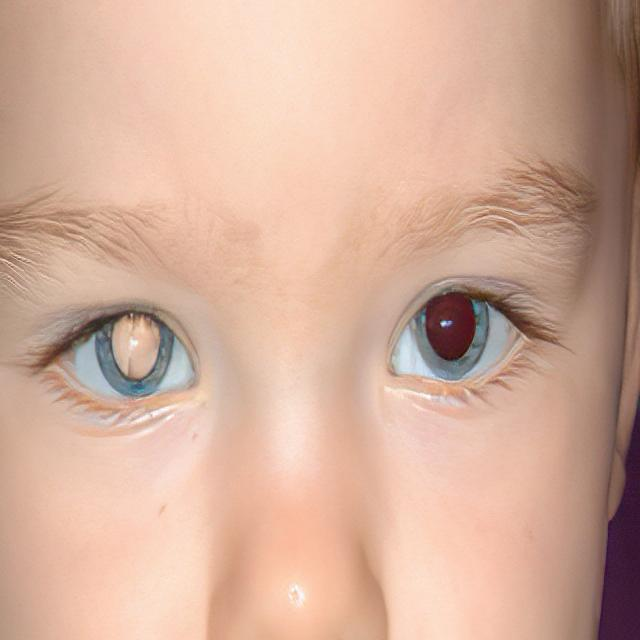reflexo-alterado: (53, 297, 204, 437)
reflexo-normal: (382, 277, 539, 402)
